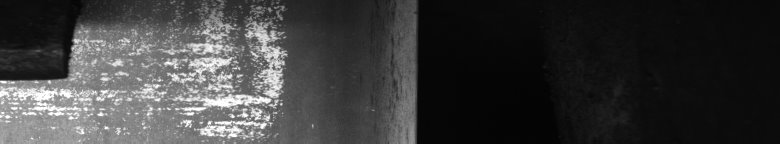kb: (4, 4, 314, 136)
